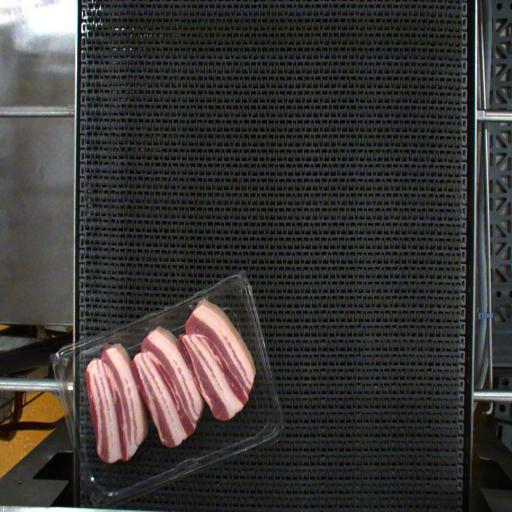packaging-error: (180, 285, 218, 316), (103, 324, 126, 348)
